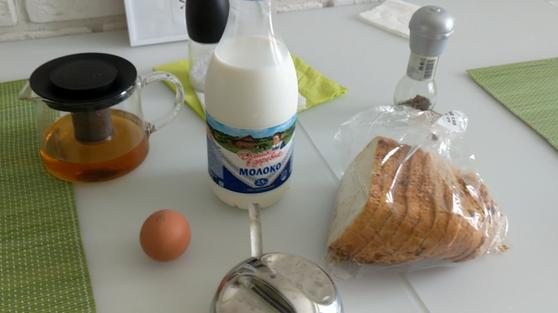egg: (139, 210, 191, 263)
white_bread: (329, 140, 380, 247)
